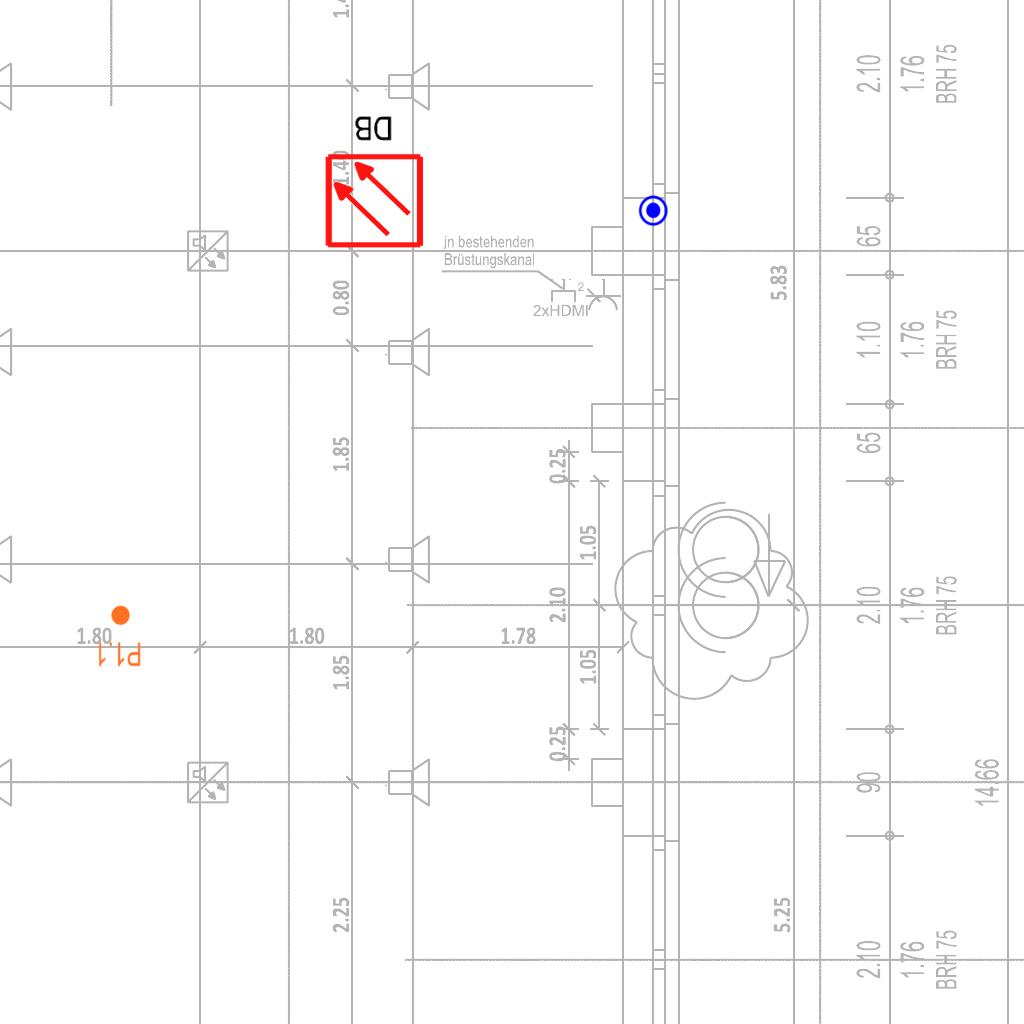DB_Melder_in_Doppelboden_mit_Revisionsoeffnung_mind_40_x_40_cm: (316, 106, 430, 255)
Downlight_LED_Einbauleuchten_Flur_2: (96, 604, 142, 668)
Taster: (638, 194, 671, 227)
